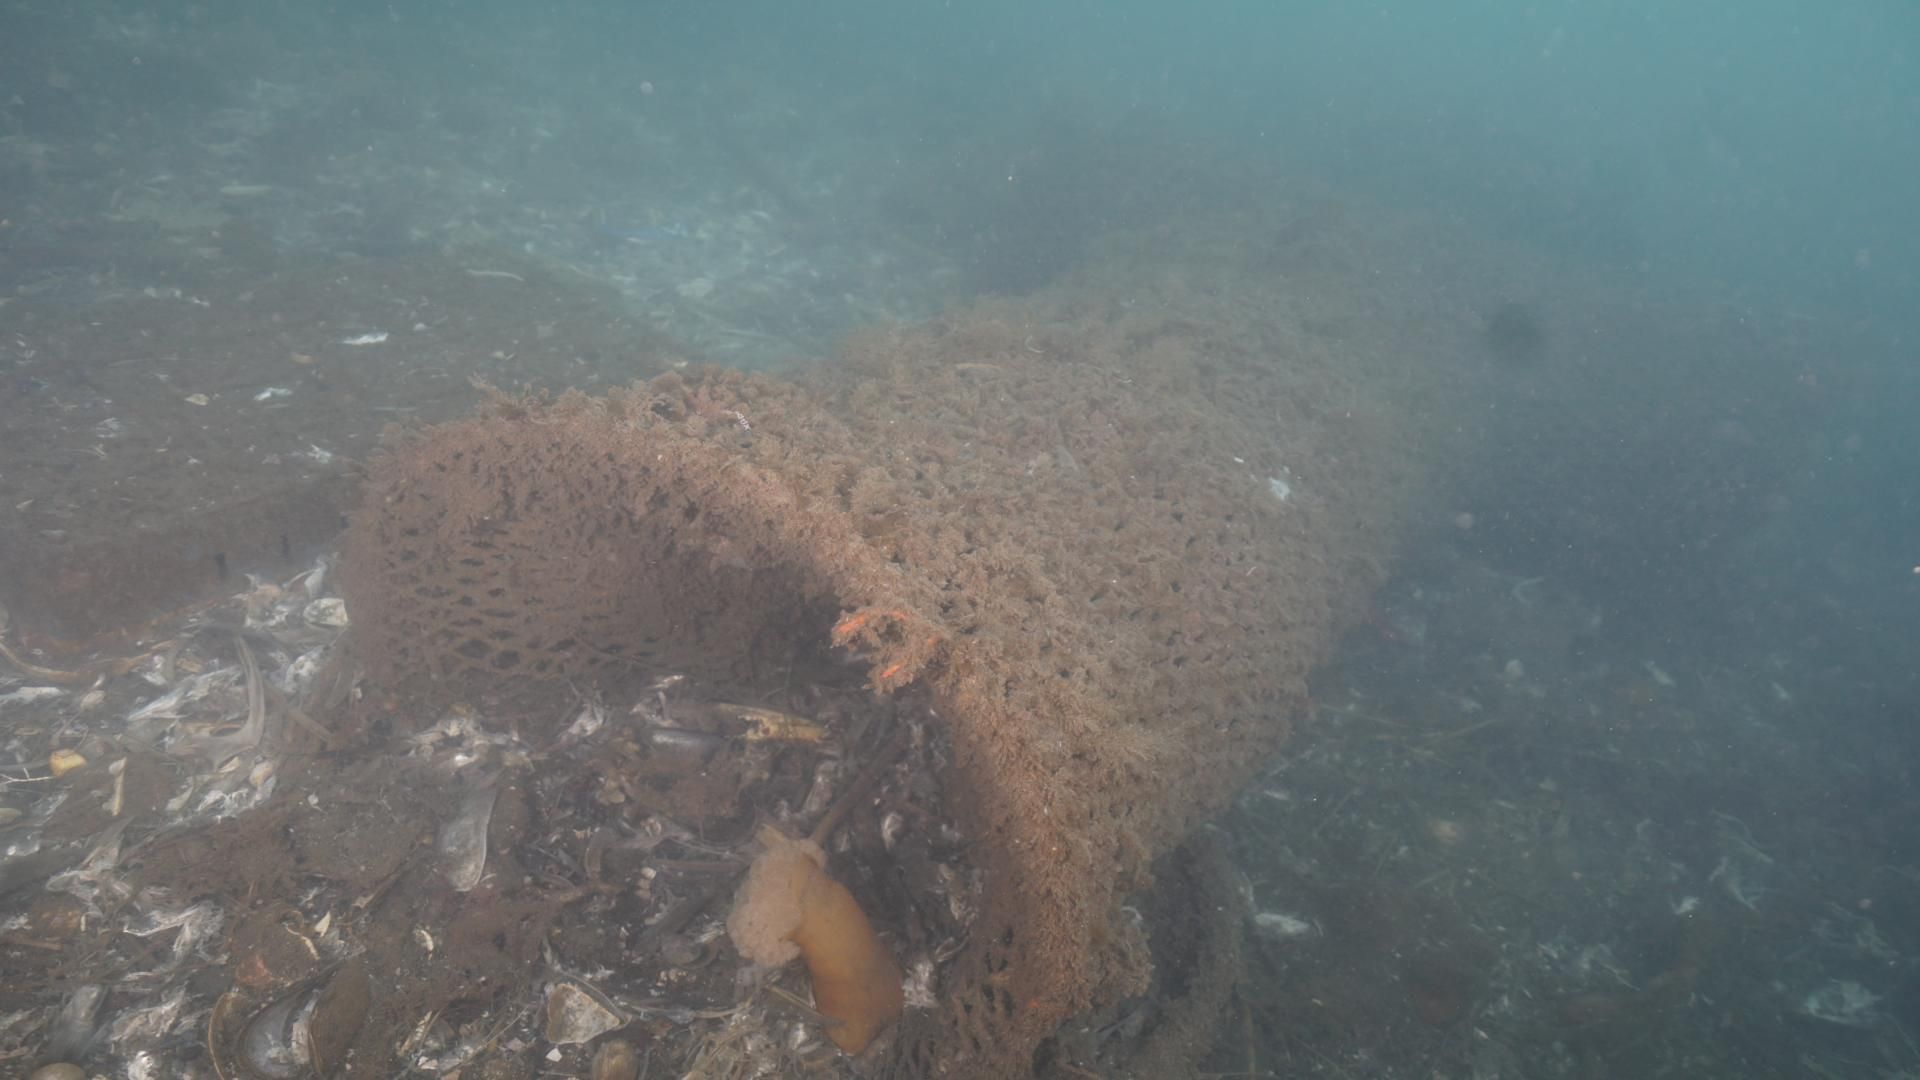spring fish trap: (334, 222, 1451, 1073), (969, 131, 1884, 605)
